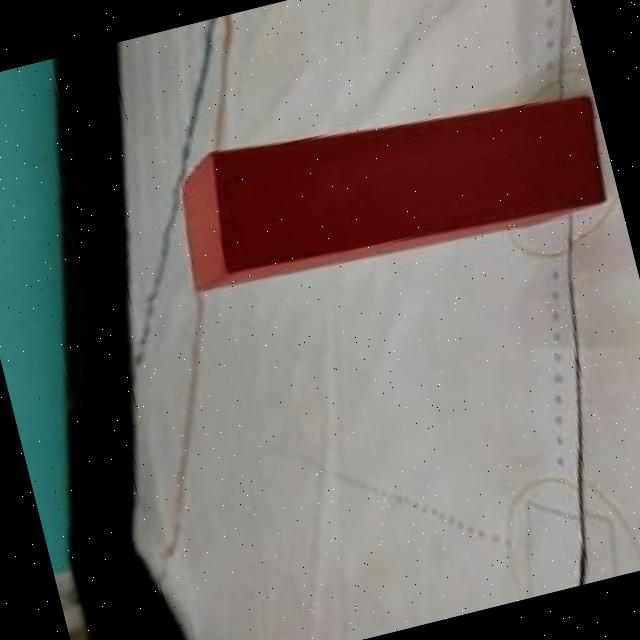redbox: (163, 57, 616, 306)
